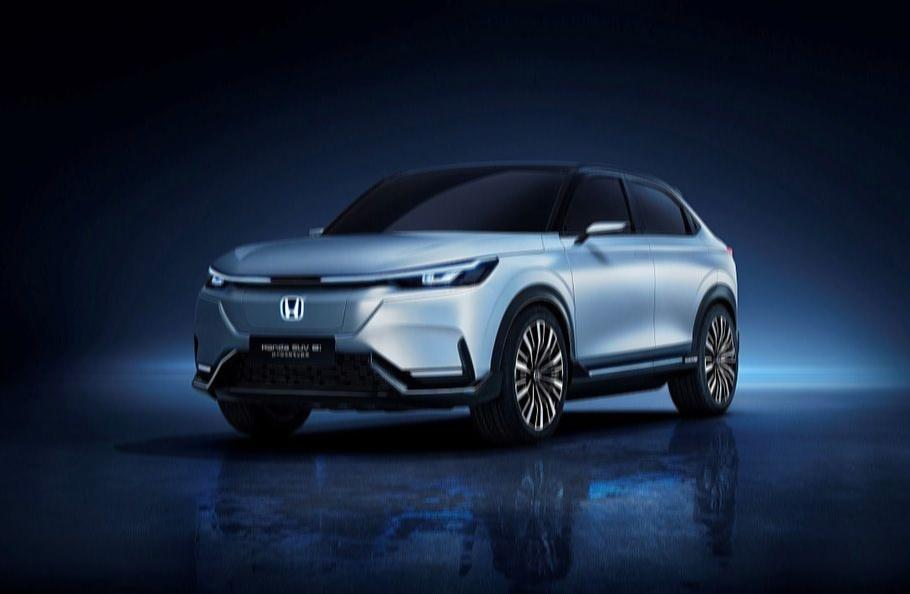Car hood: (204, 224, 556, 277)
Fender - -F-L-: (476, 218, 578, 389)
Fender - -R-L-: (675, 200, 738, 370)
Front bumper: (186, 341, 500, 420)
Headlight - -L-: (381, 251, 505, 294)
Headlight - -R-: (206, 266, 224, 293)
Passenger-s door - -F-L-: (561, 151, 659, 390)
Passenger-s door - -R-L-: (619, 149, 706, 393)
Side bumper - -L-: (552, 339, 705, 412)
Side mirror - -L-: (570, 214, 628, 248)
